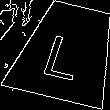L_N: (41, 24, 92, 81)
